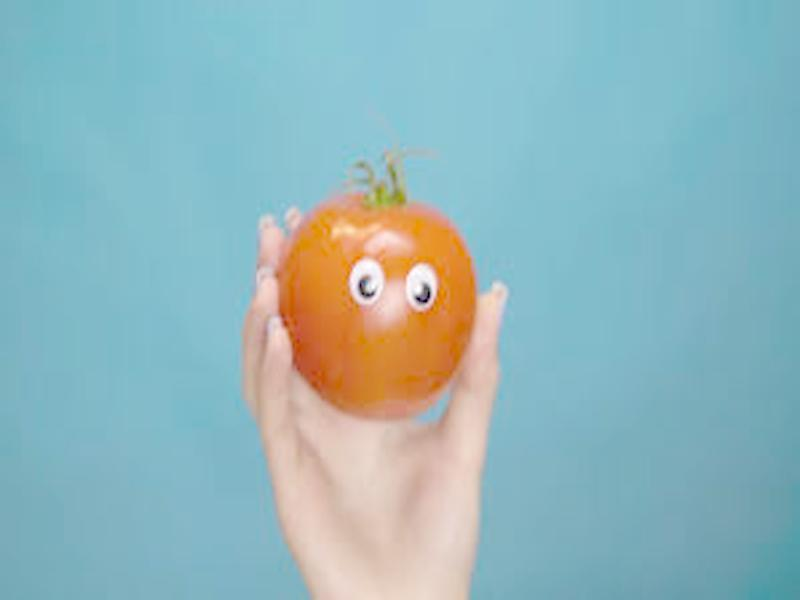Tomato: (276, 189, 479, 421)
